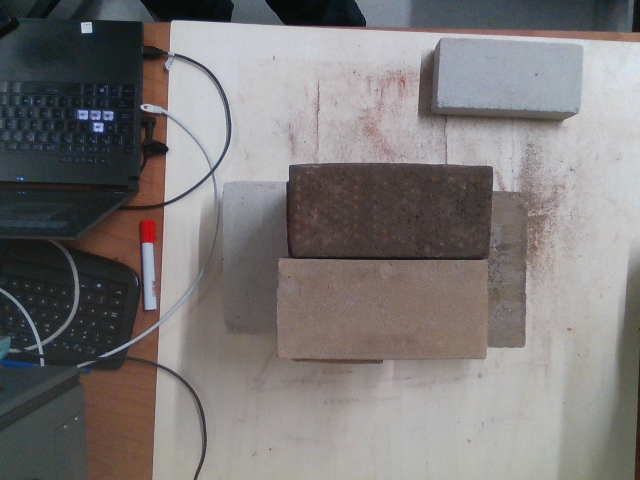brick: (280, 261, 488, 360), (290, 166, 492, 259), (438, 37, 582, 111)
